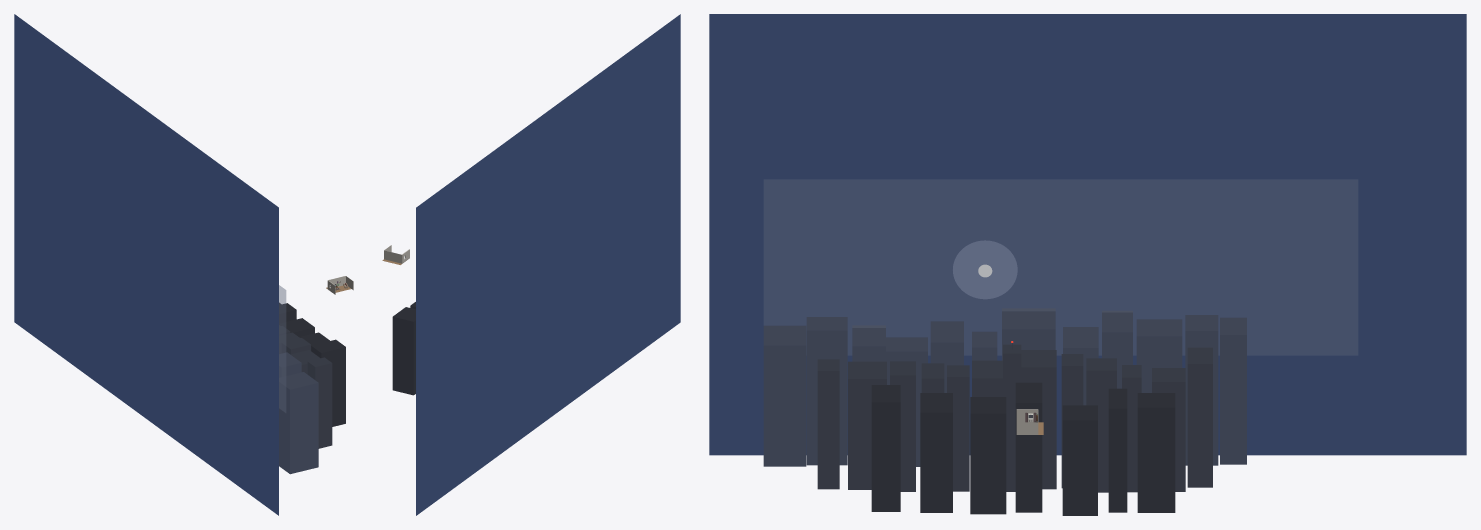
Rendered from ps1-setup.glb.
3 renders of one model, left to right at view 1: azimuth 30°, elevation 25°; view 2: azimuth 150°, elevation 25°; view 3: azimuth 270°, elevation 25°, orthographic. The views are drawn at different scales.
Parts seen in each view (by area): view 1: Outside_Sky, Outside_Buildings_Far, Outside_Buildings_Near, Outside_Buildings_Mid, Outside_Clouds; view 2: Outside_Sky, Outside_Buildings_Near; view 3: Outside_Sky, Outside_Clouds, Outside_Buildings_Far, Outside_Buildings_Mid, Outside_Buildings_Near, Outside_MoonHalo.
Boxes of the visible parts, <box> form: Outside_Sky: <box>14,14,278,515</box>; Outside_Buildings_Far: <box>279,352,318,474</box>; Outside_Buildings_Near: <box>279,302,345,426</box>; Outside_Buildings_Mid: <box>279,325,332,448</box>; Outside_Clouds: <box>279,285,285,412</box>; Outside_Sky: <box>416,14,680,515</box>; Outside_Buildings_Near: <box>392,302,415,395</box>; Outside_Sky: <box>709,14,1466,455</box>; Outside_Clouds: <box>764,179,1357,355</box>; Outside_Buildings_Far: <box>763,308,1246,466</box>; Outside_Buildings_Mid: <box>817,343,1212,492</box>; Outside_Buildings_Near: <box>871,382,1175,515</box>; Outside_MoonHalo: <box>953,240,1017,298</box>.
Size of the model in its own units: 55.57 by 90 by 140.
